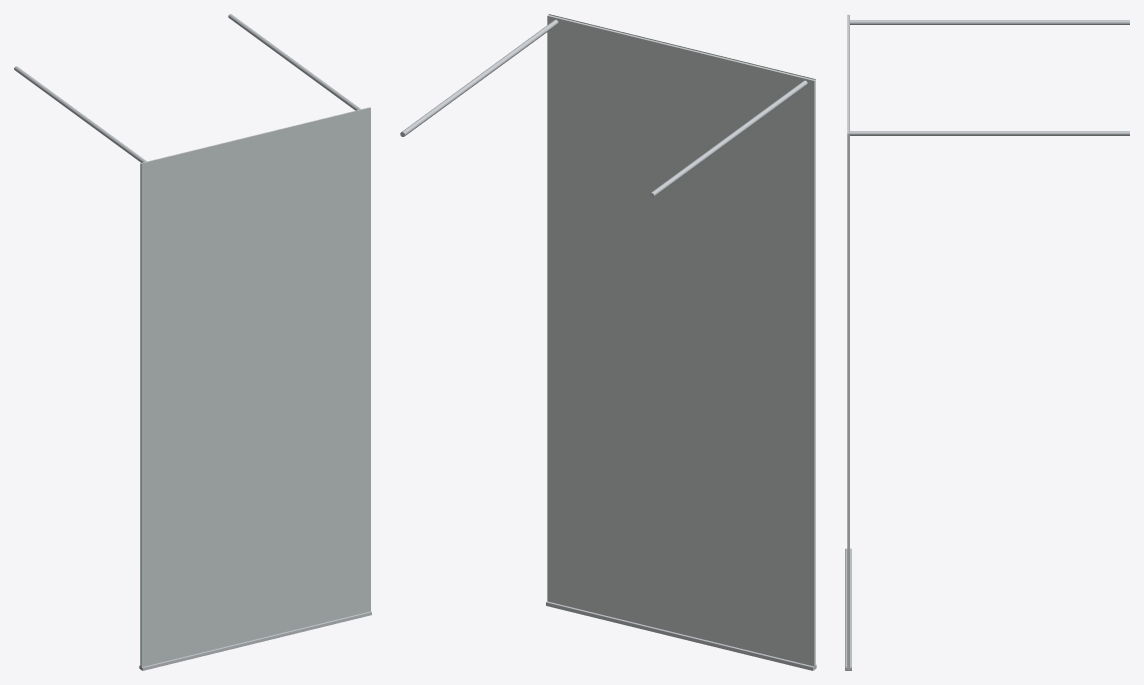
The picture shows the model from 3 angles, left to right: view 1: azimuth 30°, elevation 25°; view 2: azimuth 150°, elevation 25°; view 3: azimuth 270°, elevation 25°; orthographic projection. The views are drawn at different scales.
Parts seen in each view (by area): view 1: Etched tree privacy, Glass, Bottom glass shoe, Stabilising arm.001, Stabilising arm; view 2: Glass, Bottom glass shoe, Stabilising arm, Stabilising arm.001; view 3: Glass, Stabilising arm, Stabilising arm.001, Bottom glass shoe.
Boxes of the visible parts, left/top/right/bottom form: Etched tree privacy: left=141, top=107, right=370, bottom=666; Glass: left=140, top=107, right=369, bottom=668; Bottom glass shoe: left=139, top=611, right=371, bottom=670; Stabilising arm.001: left=228, top=14, right=360, bottom=110; Stabilising arm: left=14, top=66, right=146, bottom=162; Glass: left=547, top=15, right=815, bottom=666; Bottom glass shoe: left=546, top=601, right=816, bottom=670; Stabilising arm: left=649, top=80, right=807, bottom=197; Stabilising arm.001: left=400, top=19, right=558, bottom=136; Glass: left=847, top=14, right=849, bottom=669; Stabilising arm: left=850, top=20, right=1129, bottom=24; Stabilising arm.001: left=850, top=131, right=1129, bottom=135; Bottom glass shoe: left=845, top=548, right=851, bottom=670.
Bounding box in the file's own units: 0.9 × 1.9 × 0.911.
3 materials, 1 textured.
